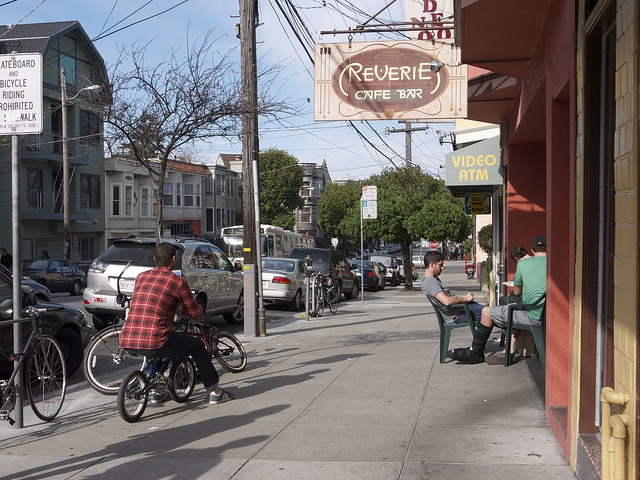non-vehicle: (0, 303, 72, 433), (119, 317, 196, 425), (84, 267, 142, 394), (185, 312, 248, 373), (312, 271, 338, 316)
